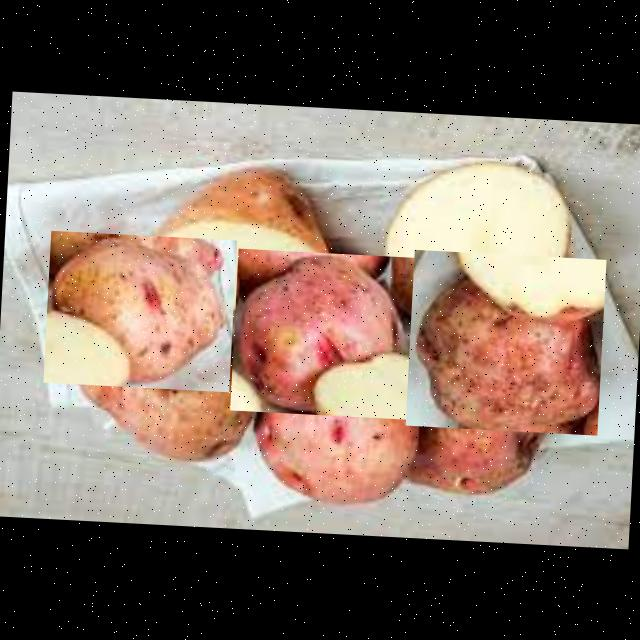Defected potato: (404, 248, 606, 435), (230, 247, 416, 418), (42, 230, 236, 392), (246, 365, 424, 515)
